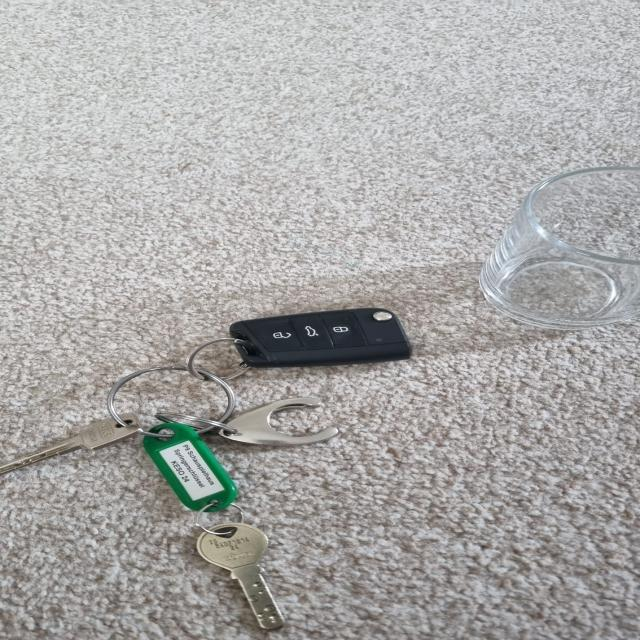Cup: (480, 166, 639, 330)
Key: (196, 522, 284, 630), (0, 413, 139, 474)
